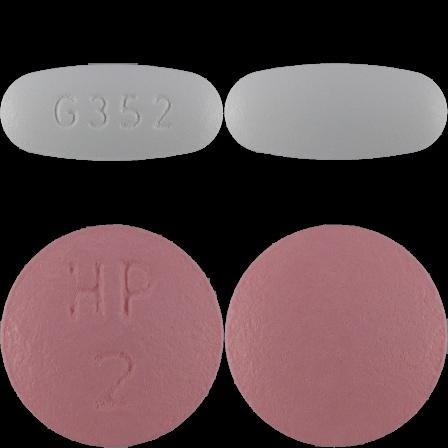70786-5522: (0, 0, 224, 224)
